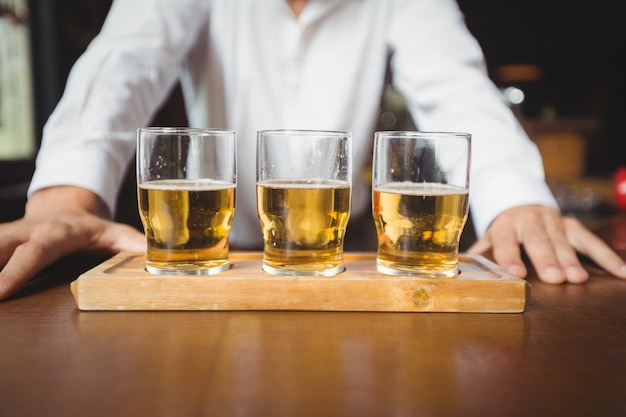alcohol: (136, 124, 239, 275), (254, 127, 353, 277), (374, 128, 471, 281)
